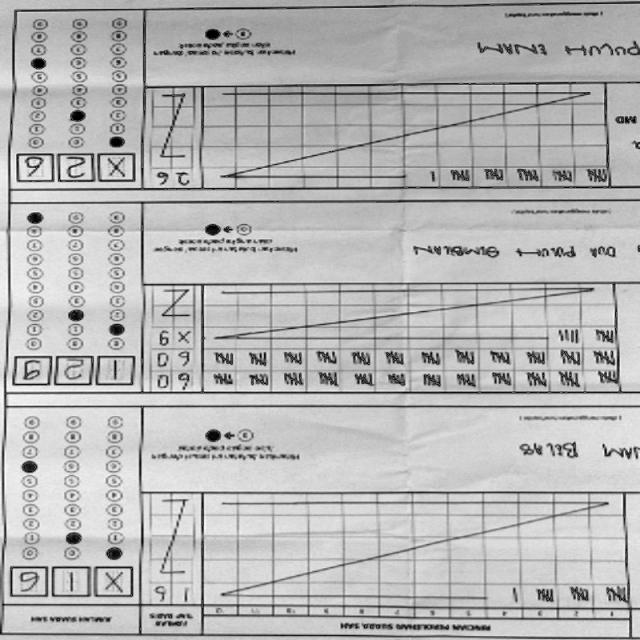Suara: (7, 148, 141, 190), (5, 560, 138, 602), (7, 352, 141, 393)
